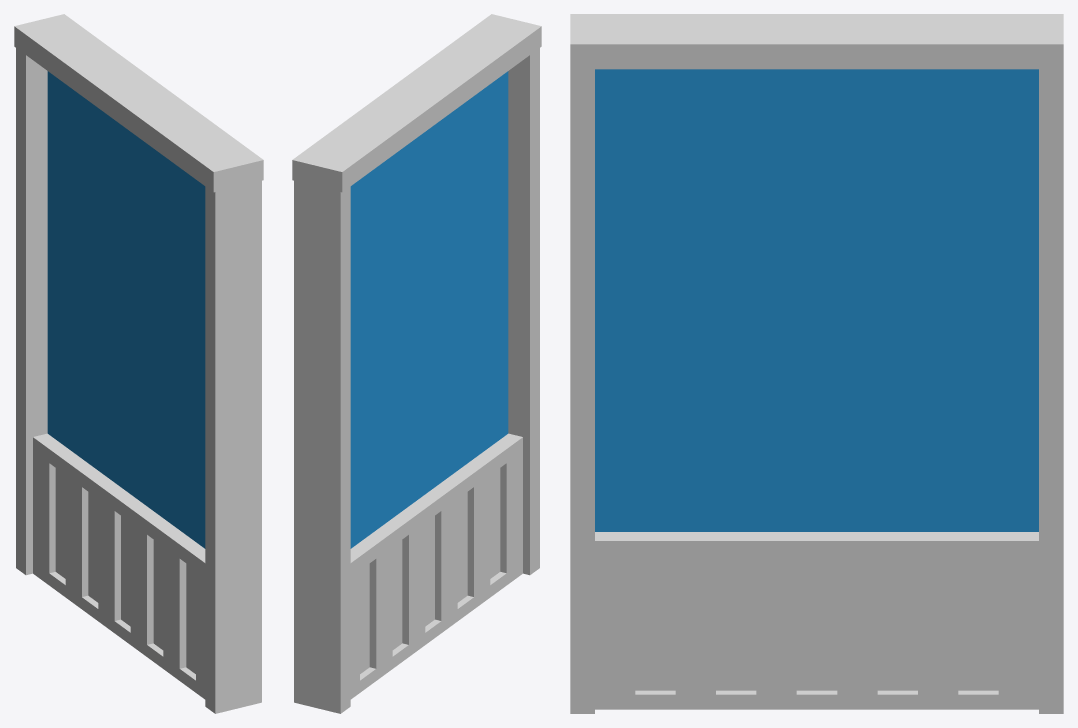
Rendered from WALLS1.fbx.
3 views of the same model, side by side, from view 1: azimuth 30°, elevation 25°; view 2: azimuth 150°, elevation 25°; view 3: azimuth 270°, elevation 25° (orthographic). The views are drawn at different scales.
Visible parts, largest first — view 1: Wall1; view 2: Wall1; view 3: Wall1.
Boxes of the visible parts, bbox=[...] form: Wall1: bbox=[14, 14, 263, 713]; Wall1: bbox=[292, 14, 541, 713]; Wall1: bbox=[570, 14, 1063, 713].
Bounding box in the file's own units: 28.99 × 300 × 200.
